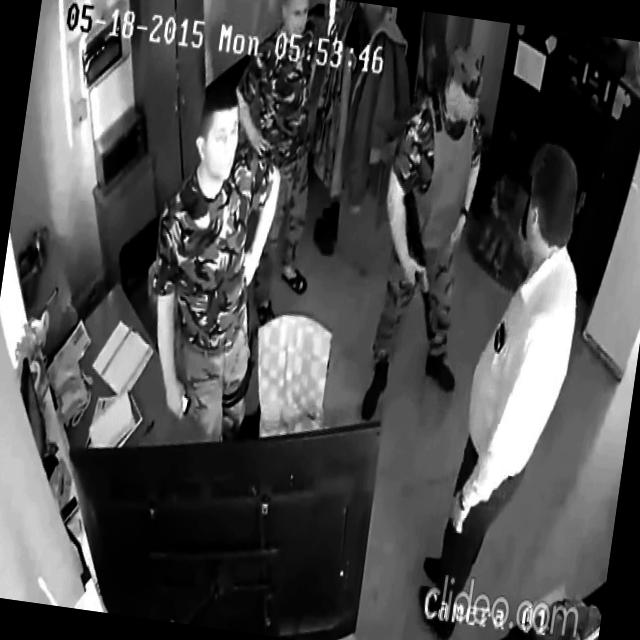gun: (380, 182, 457, 342)
person: (412, 131, 601, 640), (128, 73, 294, 450), (202, 0, 348, 332)
person with a gun: (354, 35, 504, 435)
